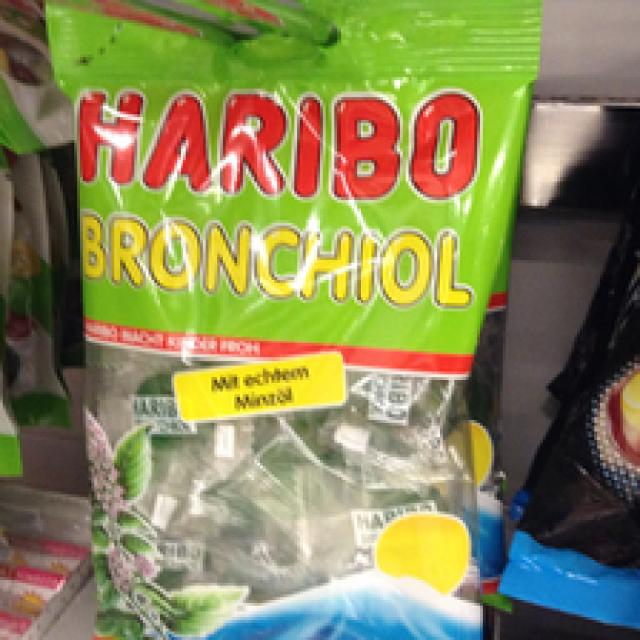groceries: (49, 0, 532, 620)
